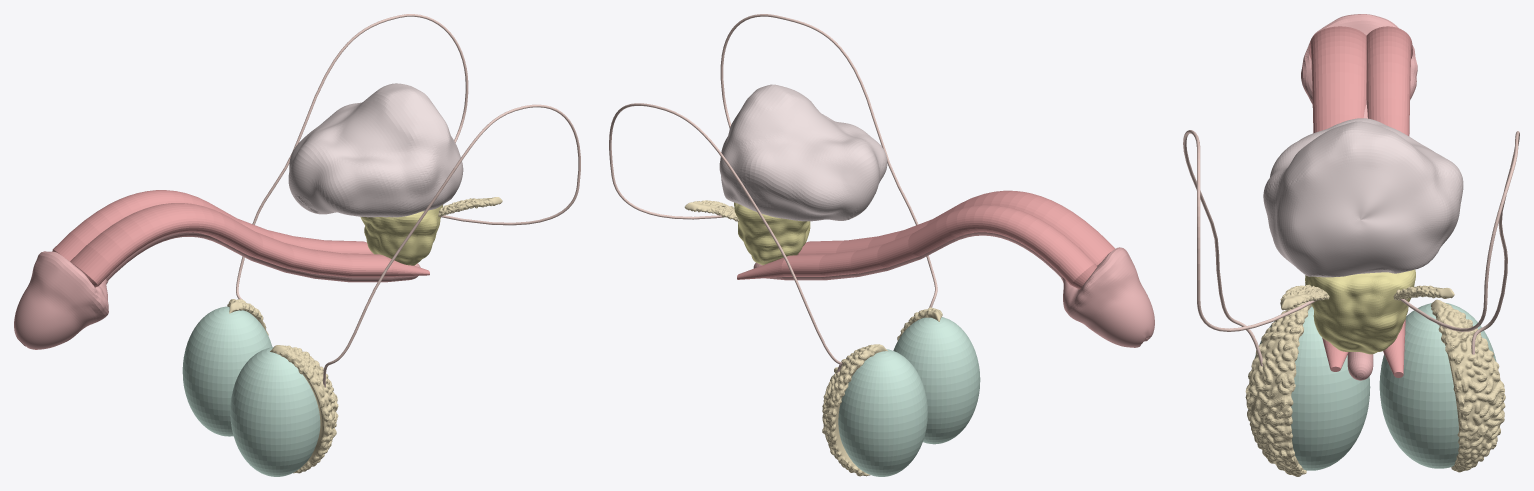
The model's file is reprductive male.glb.
3 renders of one model, left to right at view 1: azimuth 30°, elevation 25°; view 2: azimuth 150°, elevation 25°; view 3: azimuth 270°, elevation 25°, orthographic. The views are drawn at different scales.
Visible parts, largest first — view 1: Subdivision Surface.2, Sphere (×2), Sweep.1, Sphere.1, penis head, Sweep.2, Sweep (×2), Subdivision Surface.1, Sweep.3, Sphere.2; view 2: Subdivision Surface.2, Sweep.2, Sphere.1, Sphere (×2), penis head, Sweep.1, Subdivision Surface.1, Sweep (×2), Sphere.2, Sweep.3; view 3: Subdivision Surface.2, Sphere (×3), Sphere.1, Sphere.2 (×2), Subdivision Surface.1, Sweep.1, Sweep.2, Sweep (×2), Sweep.3, penis head.
Boxes of the visible parts, bbox=[...] form: Subdivision Surface.2: bbox=[288, 83, 463, 217]; Sphere (×2): bbox=[230, 345, 338, 476]; Sweep.1: bbox=[70, 203, 429, 287]; Sphere.1: bbox=[182, 306, 272, 436]; penis head: bbox=[14, 251, 108, 349]; Sweep.2: bbox=[52, 190, 373, 261]; Sweep (×2): bbox=[106, 104, 580, 387]; Subdivision Surface.1: bbox=[360, 205, 442, 265]; Sweep.3: bbox=[236, 14, 468, 299]; Sphere.2: bbox=[438, 197, 502, 216]; Subdivision Surface.2: bbox=[719, 84, 887, 221]; Sweep.2: bbox=[737, 205, 1097, 289]; Sphere.1: bbox=[838, 349, 927, 476]; Sphere (×2): bbox=[684, 200, 980, 444]; penis head: bbox=[1061, 247, 1154, 347]; Sweep.1: bbox=[797, 190, 1115, 265]; Subdivision Surface.1: bbox=[734, 202, 810, 265]; Sweep (×2): bbox=[720, 14, 1061, 307]; Sphere.2: bbox=[822, 344, 887, 476]; Sweep.3: bbox=[609, 103, 842, 375]; Subdivision Surface.2: bbox=[1263, 118, 1463, 277]; Sphere (×3): bbox=[1245, 285, 1454, 476]; Sphere.1: bbox=[1379, 303, 1496, 468]; Sphere.2 (×2): bbox=[1280, 284, 1505, 472]; Subdivision Surface.1: bbox=[1305, 269, 1415, 354]; Sweep.1: bbox=[1309, 26, 1366, 371]; Sweep.2: bbox=[1366, 26, 1412, 377]; Sweep (×2): bbox=[1183, 100, 1373, 380]; Sweep.3: bbox=[1399, 131, 1519, 354]; penis head: bbox=[1301, 14, 1417, 104].
Size of the model in its own units: 855 by 572 by 390.
